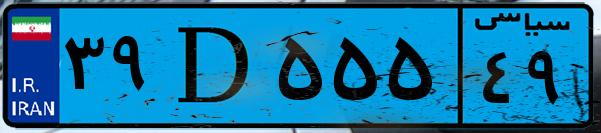3: (57, 26, 110, 100)
4: (475, 38, 525, 113)
5: (270, 28, 330, 110), (385, 28, 445, 110), (330, 28, 385, 110)
9: (525, 38, 570, 115), (110, 28, 158, 98)
D: (158, 12, 270, 120)
